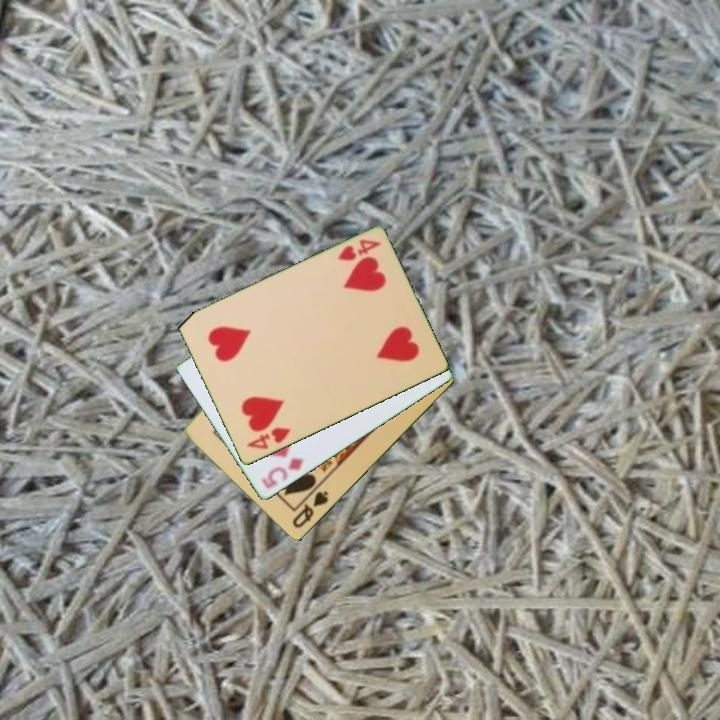4h: (243, 424, 293, 453), (334, 236, 383, 264)
5d: (257, 454, 306, 492)
Qs: (289, 487, 331, 531)
